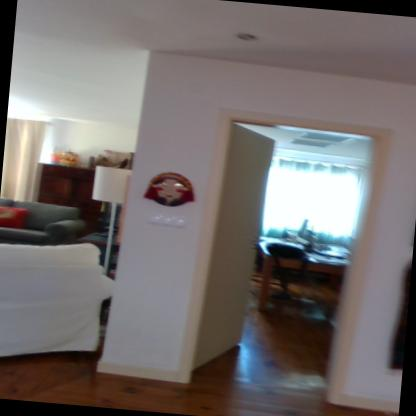open: (191, 95, 408, 414)
